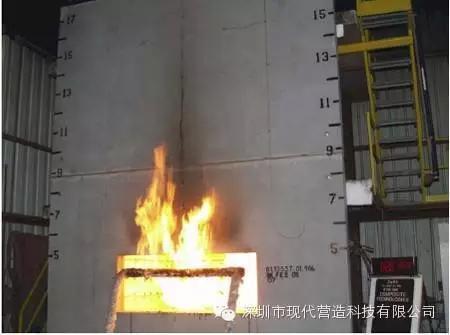fire: (117, 135, 233, 307)
